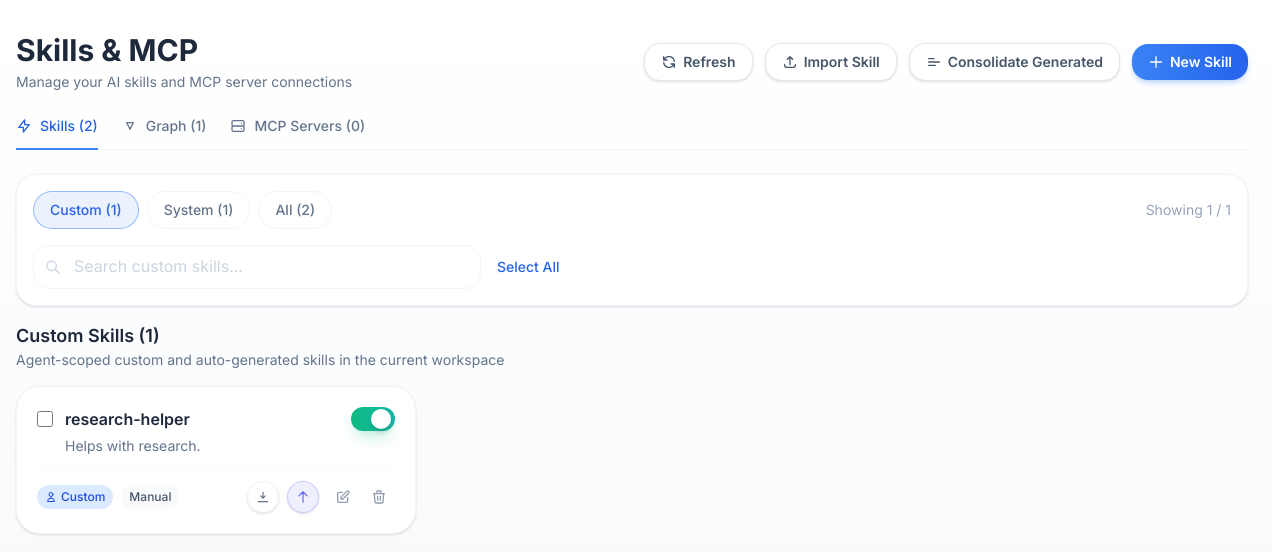
Test: SkillsPage › manually consolidates generated skills and refreshes the list
expect the heading "Skills & MCP" is shown: met, box [16, 32, 198, 68]
Click the button "Consolidate Generated" at (1014, 62), box [909, 43, 1120, 81]
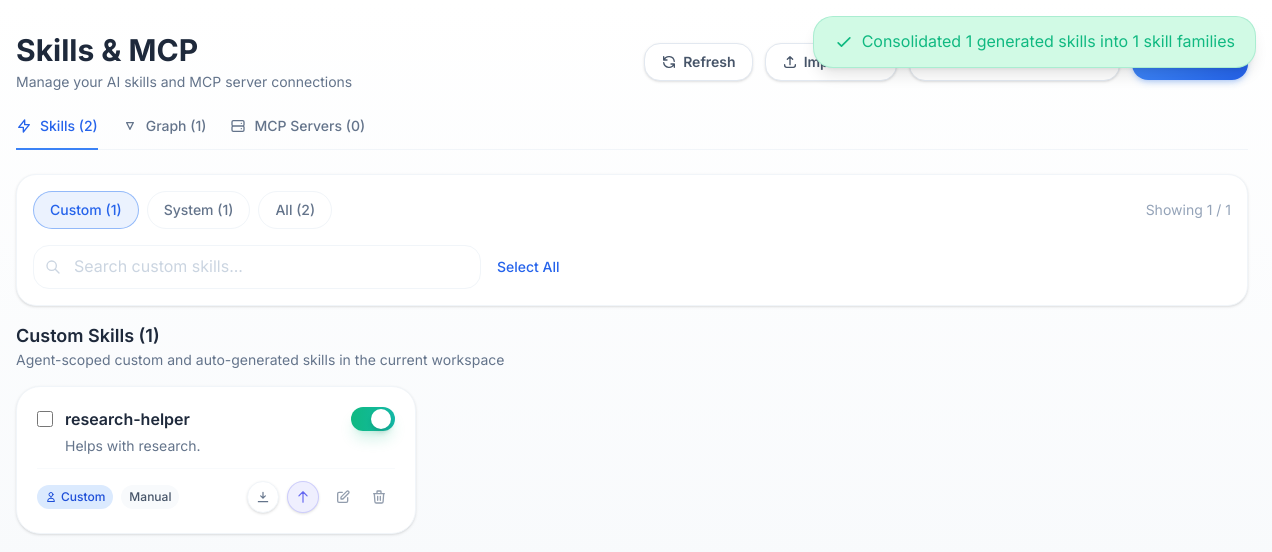
expect the text "Consolidated 1 generated skills into 1 skill families" is shown: met, box [834, 29, 1235, 55]
